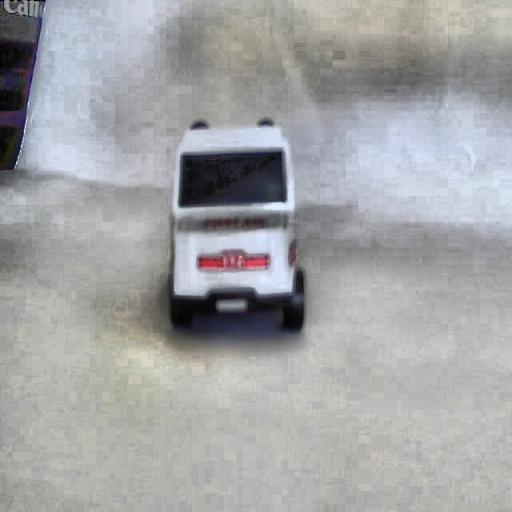ambulance: (167, 117, 306, 331)
